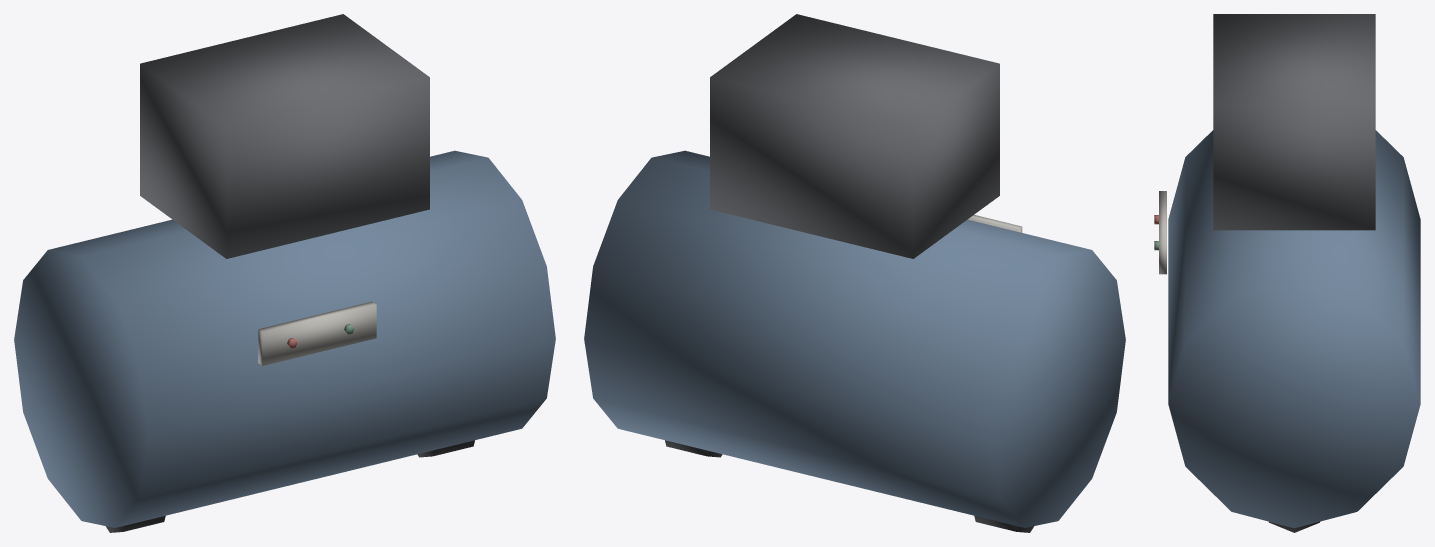
The model's file is air_compressor__compact.glb.
3 renders of one model, left to right at view 1: azimuth 30°, elevation 25°; view 2: azimuth 150°, elevation 25°; view 3: azimuth 270°, elevation 25°, orthographic. The views are drawn at different scales.
Visible parts, largest first — view 1: world; view 2: world; view 3: world.
Boxes of the visible parts, x1=… form: world: x1=14, y1=14, x2=555, y2=532; world: x1=584, y1=14, x2=1125, y2=532; world: x1=1154, y1=14, x2=1420, y2=532.
Size of the model in its own units: 0.84 by 0.8277 by 0.5083.
